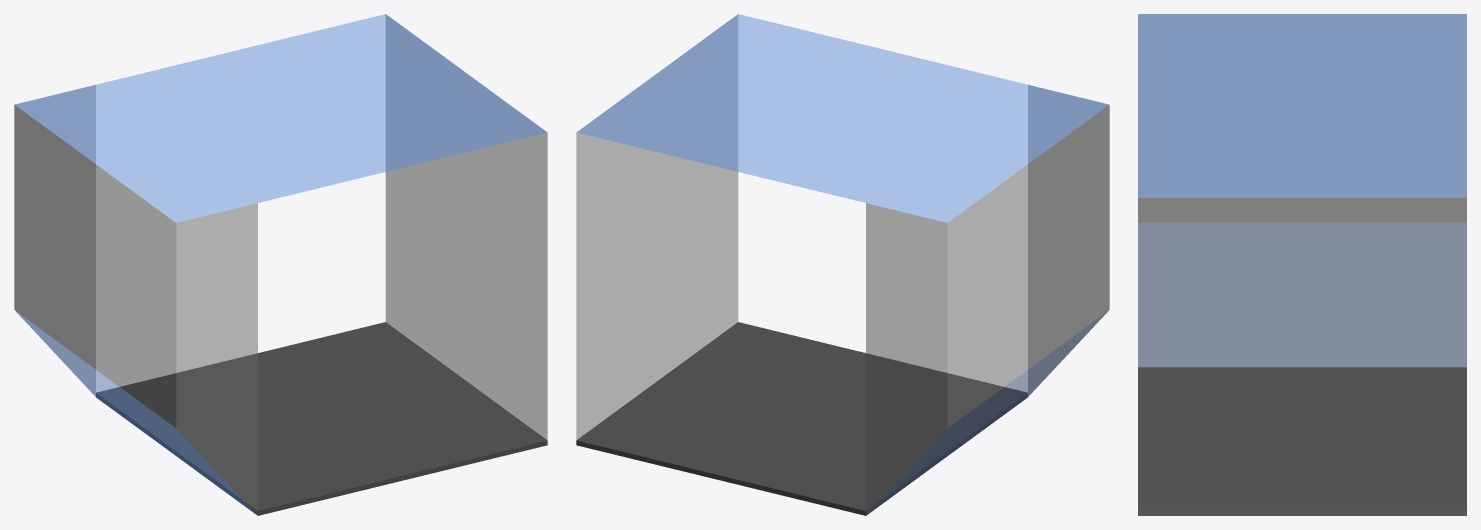
Rendered from ake.gltf.
3 views of the same model, side by side, from view 1: azimuth 30°, elevation 25°; view 2: azimuth 150°, elevation 25°; view 3: azimuth 270°, elevation 25° (orthographic).
Parts seen in each view (by area): view 1: root; view 2: root; view 3: root.
Boxes of the visible parts, left/top/right/bottom form: root: left=14, top=14, right=547, bottom=515; root: left=576, top=14, right=1109, bottom=515; root: left=1138, top=14, right=1466, bottom=515.
Bounding box in the file's own units: 2.02 × 1.63 × 1.52.
